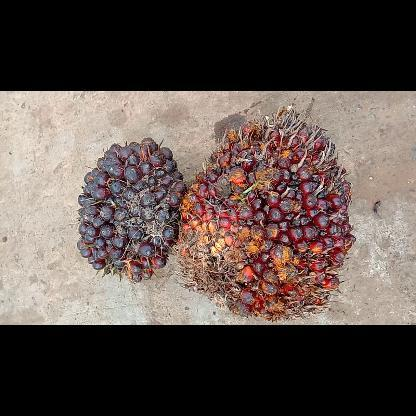TBS masak: (175, 107, 355, 321)
TBS mentah: (77, 136, 187, 284)
